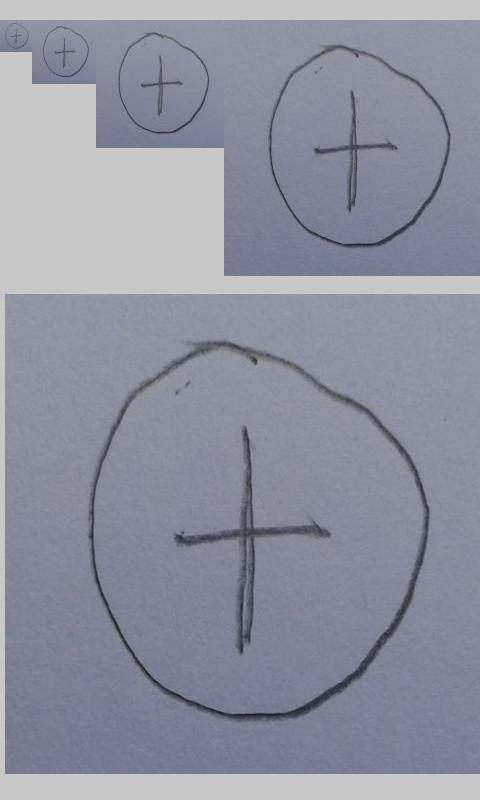button: (86, 339, 433, 723), (267, 44, 452, 248), (118, 31, 210, 135), (42, 25, 89, 78), (5, 22, 29, 49)
